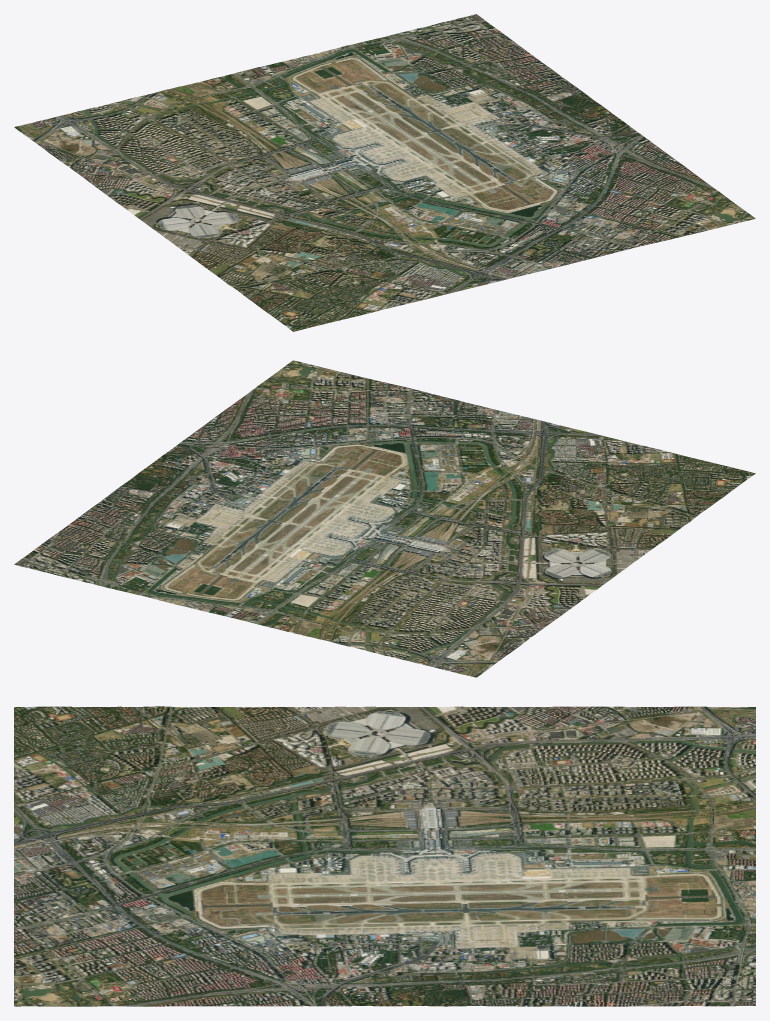
Rendered from city.obj.
3 renders of one model, top to bottom at view 1: azimuth 30°, elevation 25°; view 2: azimuth 150°, elevation 25°; view 3: azimuth 270°, elevation 25°, orthographic. The views are drawn at different scales.
Visible parts, largest first — view 1: Terrain_overlay; view 2: Terrain_overlay; view 3: Terrain_overlay.
Boxes of the visible parts, box(x1,y1,x2,y2) form: Terrain_overlay: box(14, 14, 755, 331); Terrain_overlay: box(14, 360, 755, 677); Terrain_overlay: box(14, 706, 755, 1006).
Size of the model in its own units: 6297 by 15 by 6587.
